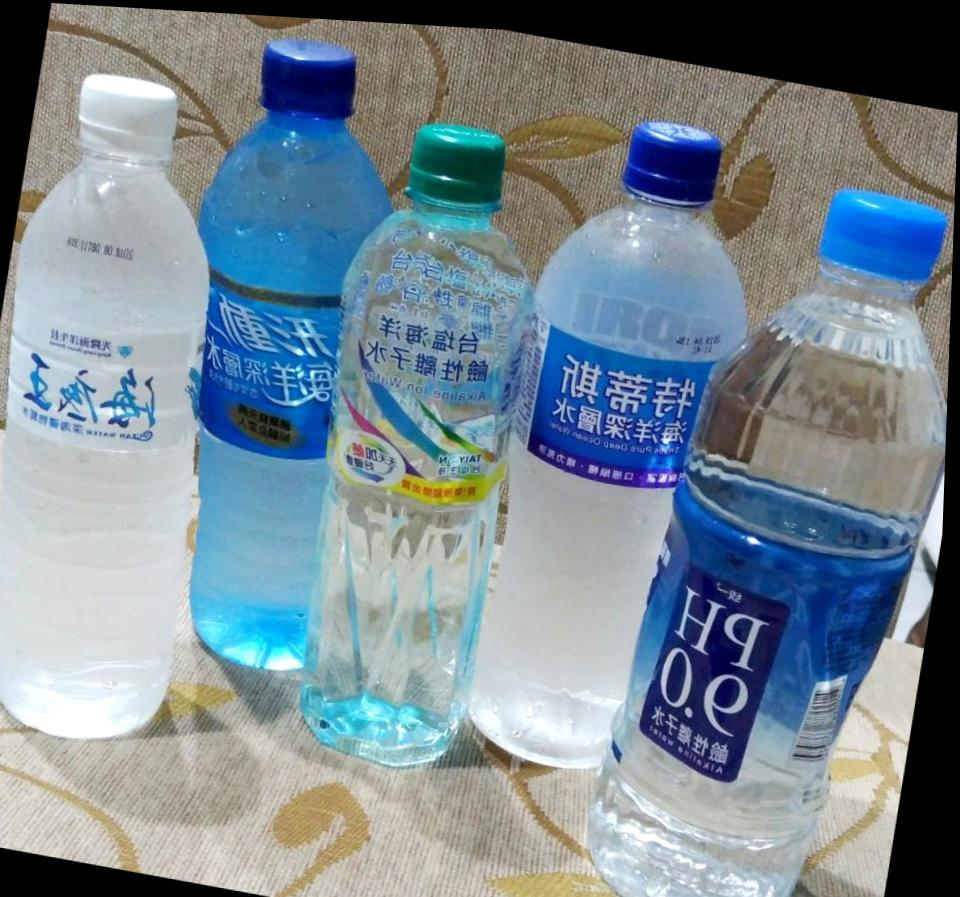plastic: (572, 190, 947, 896), (472, 122, 766, 767), (300, 124, 529, 766), (0, 75, 207, 737), (191, 112, 390, 670)
